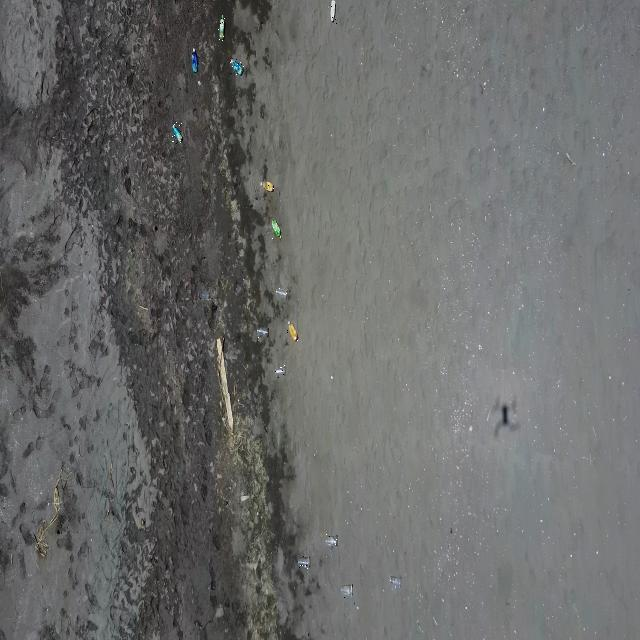plastic-bottle: (189, 46, 200, 74), (287, 318, 299, 342), (230, 58, 244, 78), (270, 218, 283, 239), (170, 122, 182, 144), (218, 15, 226, 41), (329, 0, 337, 24), (260, 179, 274, 192)
takeaway-cup: (340, 581, 354, 599), (255, 326, 271, 340), (389, 574, 402, 590), (325, 534, 339, 548), (298, 556, 312, 569), (276, 286, 289, 300), (274, 364, 286, 378)
